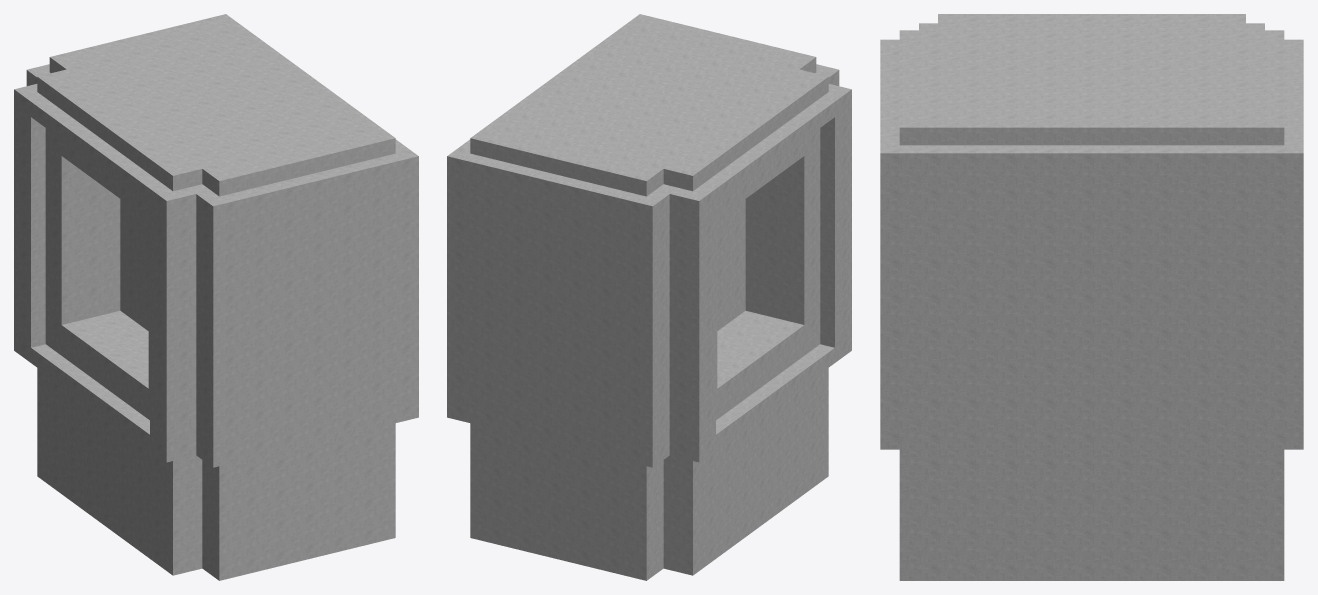
File: building.fbx
The picture shows the model from 3 angles, left to right: view 1: azimuth 30°, elevation 25°; view 2: azimuth 150°, elevation 25°; view 3: azimuth 270°, elevation 25°; orthographic projection. The views are drawn at different scales.
Visible parts, largest first — view 1: mesh_6; view 2: mesh_6; view 3: mesh_6.
Part boxes in pixels (bbox=[...]): mesh_6: bbox=[14, 14, 418, 580]; mesh_6: bbox=[447, 14, 851, 580]; mesh_6: bbox=[880, 14, 1303, 580].
Size of the model in its own units: 512 by 832 by 704.
Materials: 1 (1 with a texture image).
